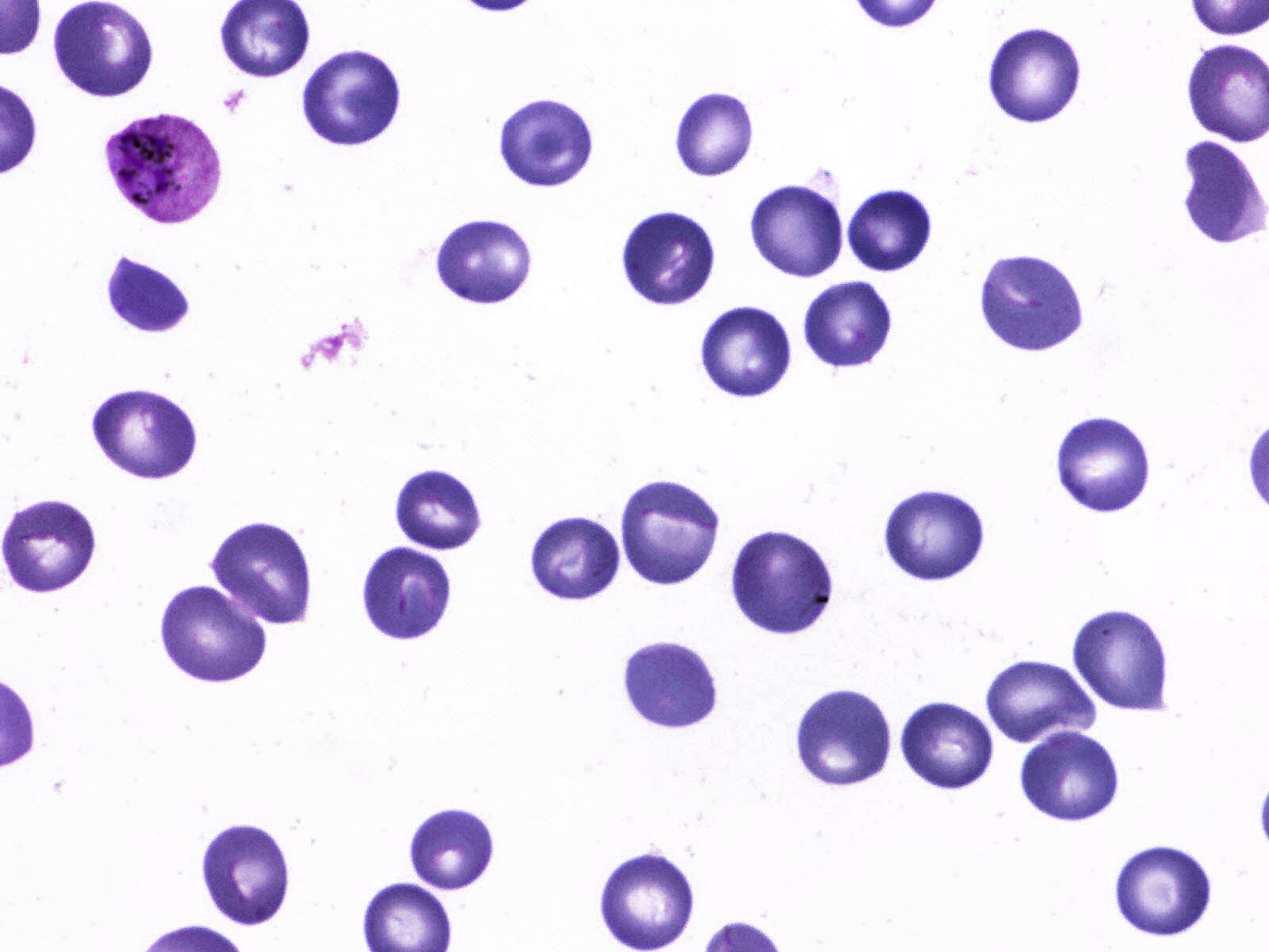Infected: (105, 112, 224, 222)
Uninfected: (157, 582, 272, 686), (979, 252, 1089, 357), (1069, 605, 1173, 714), (730, 527, 835, 634), (619, 476, 719, 588), (210, 524, 315, 630), (89, 383, 201, 482), (880, 484, 992, 583), (48, 0, 157, 101), (1053, 414, 1160, 516), (985, 21, 1087, 128), (200, 821, 297, 928), (299, 48, 407, 144), (1017, 727, 1121, 825), (986, 661, 1099, 750), (746, 182, 847, 280), (597, 854, 699, 950), (621, 637, 723, 732), (1114, 842, 1217, 936), (622, 209, 717, 309), (433, 213, 539, 302), (1185, 136, 1269, 248), (699, 306, 798, 399), (797, 691, 890, 790), (498, 97, 594, 190), (2, 501, 97, 593), (801, 280, 898, 370), (900, 702, 993, 794), (361, 547, 452, 641), (527, 514, 619, 603), (395, 466, 488, 552), (411, 806, 498, 895), (102, 253, 193, 336), (845, 189, 934, 273), (673, 94, 752, 182)
